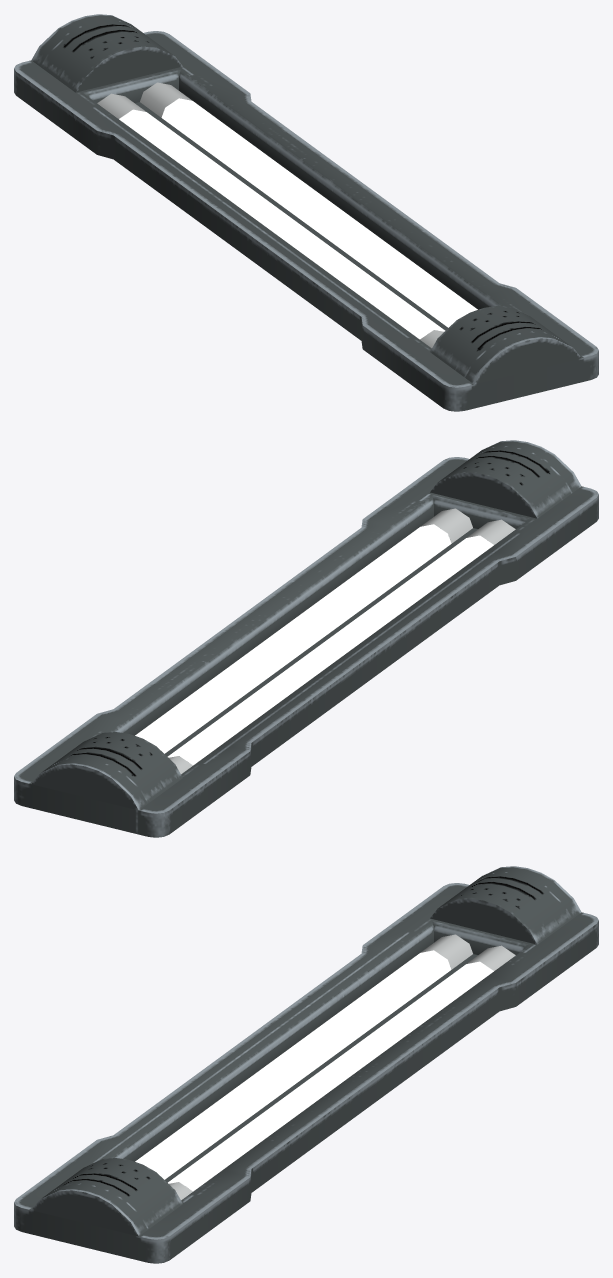
File: lamp-transformed.glb
The picture shows the model from 3 angles, top to bottom: view 1: azimuth 30°, elevation 25°; view 2: azimuth 150°, elevation 25°; view 3: azimuth 330°, elevation 25°; orthographic projection.
Parts seen in each view (by area): view 1: Light_02; view 2: Light_02; view 3: Light_02.
Boxes of the visible parts, x1,y1,x2,y2 form: Light_02: (14,14,598,411); Light_02: (14,440,598,837); Light_02: (14,866,598,1263).
Bounding box in the file's own units: 20 × 7.03 × 100.
2 materials, 1 textured.
